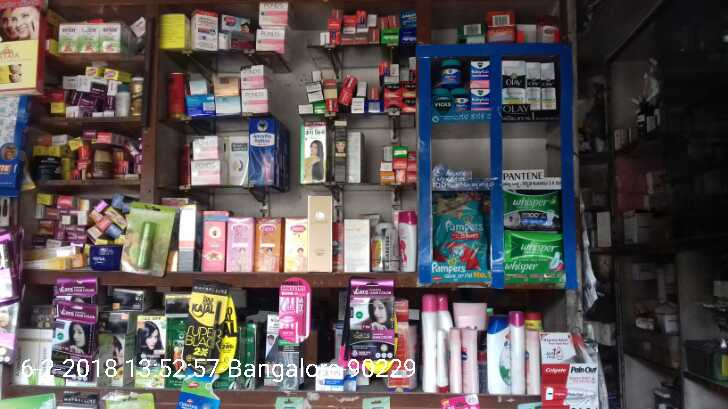beauty: (500, 61, 528, 109), (542, 63, 556, 109)
pharmacy: (431, 189, 490, 273), (498, 183, 562, 230), (500, 229, 567, 270), (467, 59, 491, 89), (439, 59, 460, 88), (471, 89, 491, 113)
